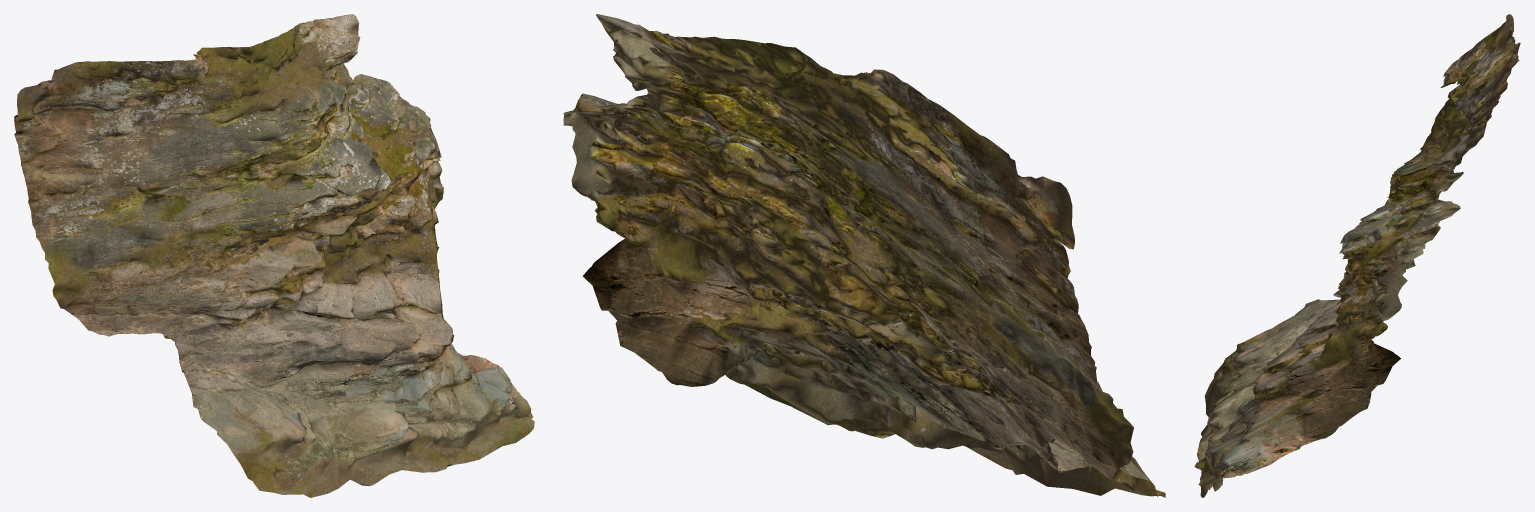
Rendered from rock_face_02.glb.
The picture shows the model from 3 angles, left to right: view 1: azimuth 30°, elevation 25°; view 2: azimuth 150°, elevation 25°; view 3: azimuth 270°, elevation 25°; orthographic projection. The views are drawn at different scales.
Visible parts, largest first — view 1: rock_face_02; view 2: rock_face_02; view 3: rock_face_02.
Part boxes in pixels (bbox=[...]): rock_face_02: bbox=[14, 14, 534, 497]; rock_face_02: bbox=[563, 14, 1165, 497]; rock_face_02: bbox=[1194, 14, 1520, 497].
Bounding box in the file's own units: 2.71 × 2.47 × 2.13.
1 material, 1 textured.
